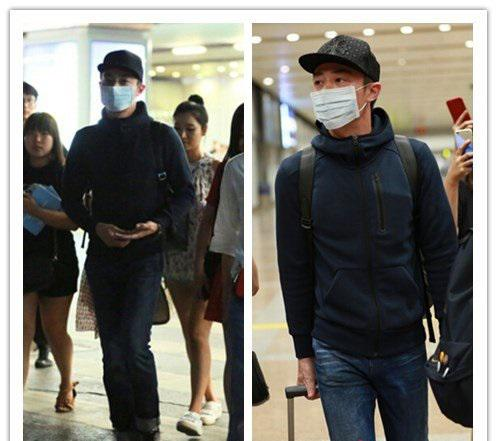NONE: (173, 120, 201, 151), (28, 129, 54, 159), (16, 92, 37, 119)
OK: (310, 65, 369, 124), (97, 72, 138, 113)
